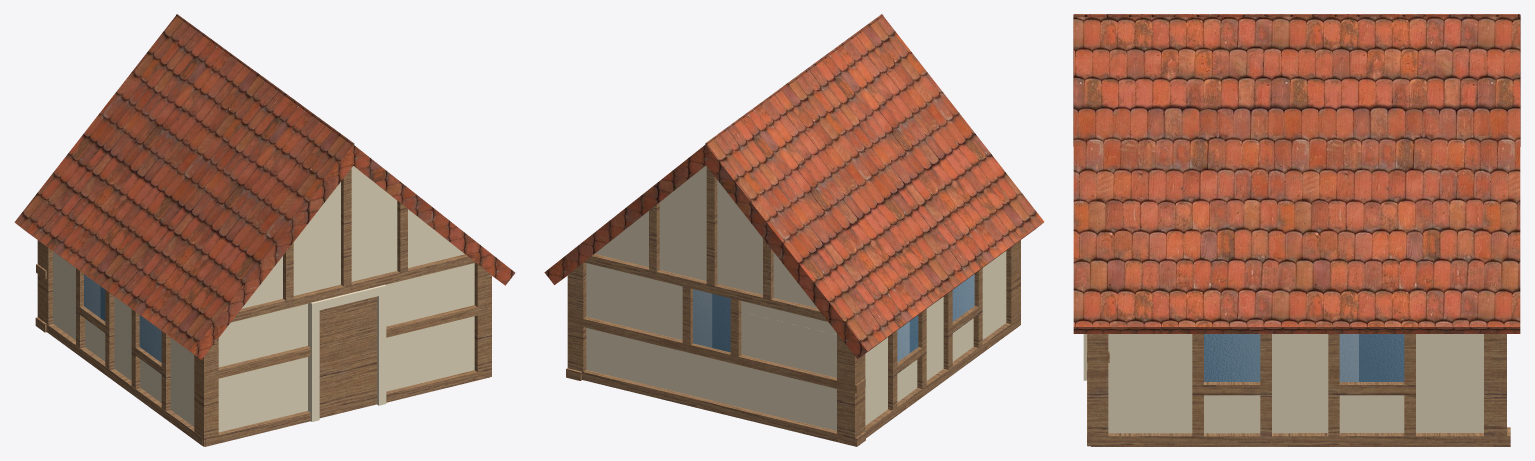
File: MediumHouse.fbx
3 renders of one model, left to right at view 1: azimuth 30°, elevation 25°; view 2: azimuth 150°, elevation 25°; view 3: azimuth 270°, elevation 25°, orthographic. The views are drawn at different scales.
Visible parts, largest first — view 1: mergedBlocks_bricks(Clone)_0.420, mergedBlocks_bricks(Clone)_0.432, mergedBlocks_custom9(Clone)_0.521, mergedBlocks_custom9(Clone)_0.527, mergedBlocks_custom9(Clone)_0.534, mergedBlocks_woodLight(Clone)_0.057, mergedBlocks_custom9(Clone)_0.532, mergedBlocks_bricks(Clone)_0.415, mergedBlocks_bricks(Clone)_0.424, mergedBlocks_custom9(Clone)_0.606, mergedBlocks_custom9(Clone)_0.520, mergedBlocks_wood(Clone)_0.2615 (+18 smaller); view 2: mergedBlocks_bricks(Clone)_0.420, mergedBlocks_bricks(Clone)_0.432, mergedBlocks_custom9(Clone)_0.538, mergedBlocks_custom9(Clone)_0.604, mergedBlocks_custom9(Clone)_0.550, mergedBlocks_custom9(Clone)_0.544, mergedBlocks_bricks(Clone)_0.430, mergedBlocks_bricks(Clone)_0.433, mergedBlocks_custom9(Clone)_0.520, mergedBlocks_custom9(Clone)_0.606, mergedBlocks_wood(Clone)_0.2639, mergedBlocks_wood(Clone)_0.2651 (+17 smaller); view 3: mergedBlocks_bricks(Clone)_0.426, mergedBlocks_bricks(Clone)_0.438, mergedBlocks_custom9(Clone)_0.525, mergedBlocks_custom9(Clone)_0.539, mergedBlocks_wood(Clone)_0.1386, mergedBlocks_custom1(Clone)_0.535, mergedBlocks_custom1(Clone)_0.529, mergedBlocks_wood(Clone)_0.2635, mergedBlocks_wood(Clone)_0.2671, mergedBlocks_bricks(Clone)_0.423, mergedBlocks_bricks(Clone)_0.435, mergedBlocks_wood(Clone)_0.1385 (+7 smaller).
Part boxes in pixels (box(x1,y1,x2,y2)): mergedBlocks_bricks(Clone)_0.420: box(92, 74, 354, 351); mergedBlocks_bricks(Clone)_0.432: box(14, 14, 275, 279); mergedBlocks_custom9(Clone)_0.521: box(218, 315, 307, 432); mergedBlocks_custom9(Clone)_0.527: box(386, 274, 474, 391); mergedBlocks_custom9(Clone)_0.534: box(351, 166, 474, 295); mergedBlocks_woodLight(Clone)_0.057: box(319, 296, 376, 418); mergedBlocks_custom9(Clone)_0.532: box(220, 182, 340, 336); mergedBlocks_bricks(Clone)_0.415: box(191, 144, 354, 359); mergedBlocks_bricks(Clone)_0.424: box(352, 144, 515, 285); mergedBlocks_custom9(Clone)_0.606: box(53, 251, 125, 375); mergedBlocks_custom9(Clone)_0.520: box(125, 304, 194, 426); mergedBlocks_wood(Clone)_0.2615: box(231, 256, 475, 322); mergedBlocks_bricks(Clone)_0.420: box(791, 14, 1044, 293); mergedBlocks_bricks(Clone)_0.432: box(705, 71, 945, 351); mergedBlocks_custom9(Clone)_0.538: box(586, 274, 713, 400); mergedBlocks_custom9(Clone)_0.604: box(713, 312, 836, 430); mergedBlocks_custom9(Clone)_0.550: box(586, 166, 706, 297); mergedBlocks_custom9(Clone)_0.544: box(717, 180, 836, 334); mergedBlocks_bricks(Clone)_0.430: box(705, 144, 867, 359); mergedBlocks_bricks(Clone)_0.433: box(544, 144, 706, 284); mergedBlocks_custom9(Clone)_0.520: box(932, 251, 1006, 376); mergedBlocks_custom9(Clone)_0.606: box(865, 304, 932, 425); mergedBlocks_wood(Clone)_0.2639: box(568, 315, 856, 393); mergedBlocks_wood(Clone)_0.2651: box(582, 371, 856, 446); mergedBlocks_bricks(Clone)_0.426: box(1073, 14, 1322, 326); mergedBlocks_bricks(Clone)_0.438: box(1271, 14, 1520, 326); mergedBlocks_custom9(Clone)_0.525: box(1108, 334, 1298, 433); mergedBlocks_custom9(Clone)_0.539: box(1298, 334, 1483, 432); mergedBlocks_wood(Clone)_0.1386: box(1091, 436, 1510, 446); mergedBlocks_custom1(Clone)_0.535: box(1339, 334, 1404, 381); mergedBlocks_custom1(Clone)_0.529: box(1204, 334, 1260, 381); mergedBlocks_wood(Clone)_0.2635: box(1484, 334, 1506, 446); mergedBlocks_wood(Clone)_0.2671: box(1087, 334, 1108, 446); mergedBlocks_bricks(Clone)_0.423: box(1073, 327, 1322, 333); mergedBlocks_bricks(Clone)_0.435: box(1323, 327, 1520, 333); mergedBlocks_wood(Clone)_0.1385: box(1108, 427, 1510, 436).
Bounding box in the file's own units: 2297 × 1844 × 2173.
